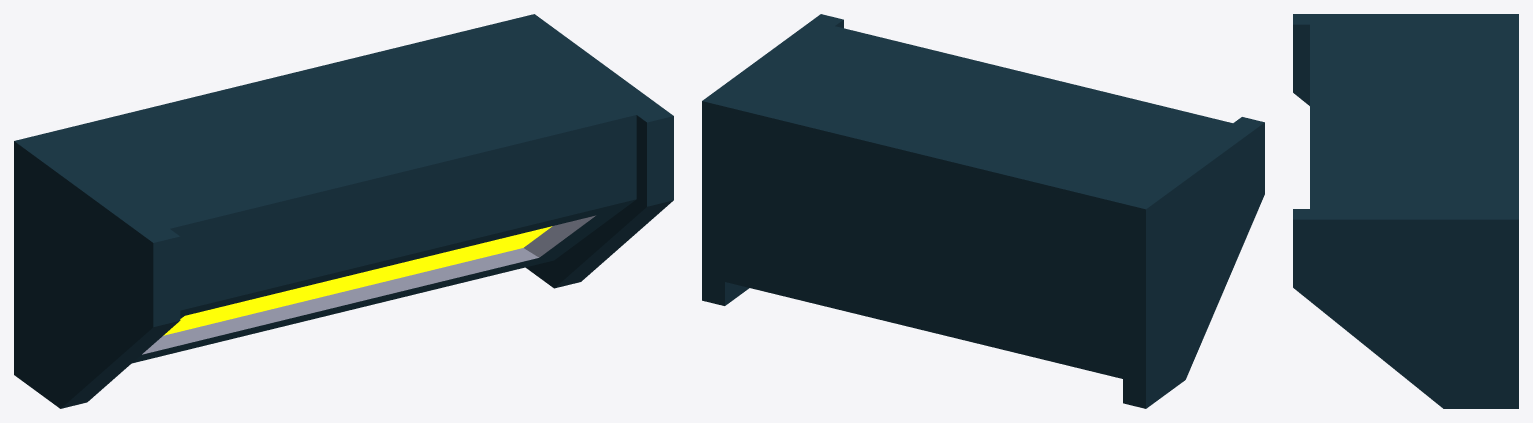
Rendered from Light_Wall_02_Yellow.fbx.
The picture shows the model from 3 angles, left to right: view 1: azimuth 30°, elevation 25°; view 2: azimuth 150°, elevation 25°; view 3: azimuth 270°, elevation 25°; orthographic projection. The views are drawn at different scales.
Visible parts, largest first — view 1: Light_Wall_02_Yellow.001; view 2: Light_Wall_02_Yellow.001; view 3: Light_Wall_02_Yellow.001.
Part boxes in pixels (<box>): Light_Wall_02_Yellow.001: <box>14,14,673,408</box>; Light_Wall_02_Yellow.001: <box>702,14,1264,408</box>; Light_Wall_02_Yellow.001: <box>1293,14,1518,408</box>.
Size of the model in its own units: 0.3958 by 0.17 by 0.1836.
